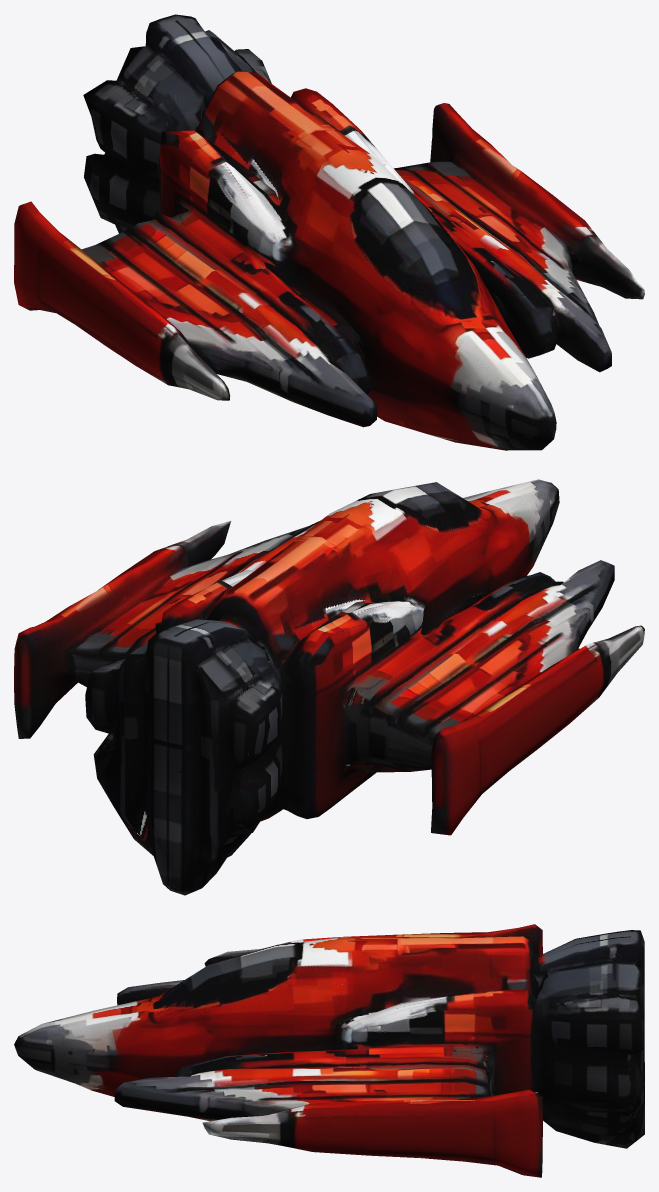
Rendered from vulture-ship.glb.
3 views of the same model, one above another, from view 1: azimuth 30°, elevation 25°; view 2: azimuth 150°, elevation 25°; view 3: azimuth 270°, elevation 25° (orthographic). The views are drawn at different scales.
Visible parts, largest first — view 1: tripo_node_6ead821f; view 2: tripo_node_6ead821f; view 3: tripo_node_6ead821f.
Part boxes in pixels (x1=…): tripo_node_6ead821f: x1=14, y1=14, x2=644, y2=450; tripo_node_6ead821f: x1=14, y1=479, x2=644, y2=895; tripo_node_6ead821f: x1=14, y1=924, x2=644, y2=1177.
Size of the model in its own units: 0.6582 by 0.366 by 0.9977.
1 material, 1 textured.
